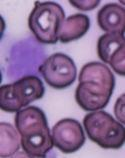L: (2, 32, 48, 82)
